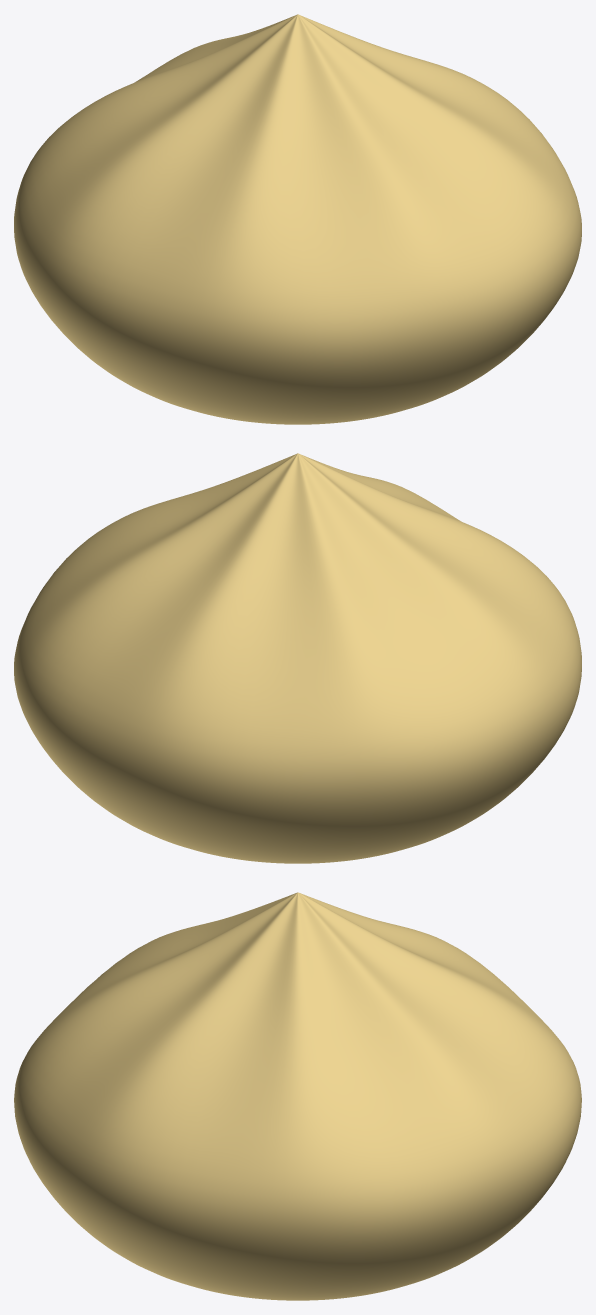
Rendered from 小籠包.fbx.
The picture shows the model from 3 angles, top to bottom: view 1: azimuth 30°, elevation 25°; view 2: azimuth 150°, elevation 25°; view 3: azimuth 270°, elevation 25°; orthographic projection.
Visible parts, largest first — view 1: 円.001; view 2: 円.001; view 3: 円.001.
Part boxes in pixels (x1=…): 円.001: x1=14, y1=14, x2=581, y2=424; 円.001: x1=14, y1=453, x2=581, y2=863; 円.001: x1=14, y1=892, x2=581, y2=1300.
Size of the model in its own units: 120 by 83.37 by 120.
